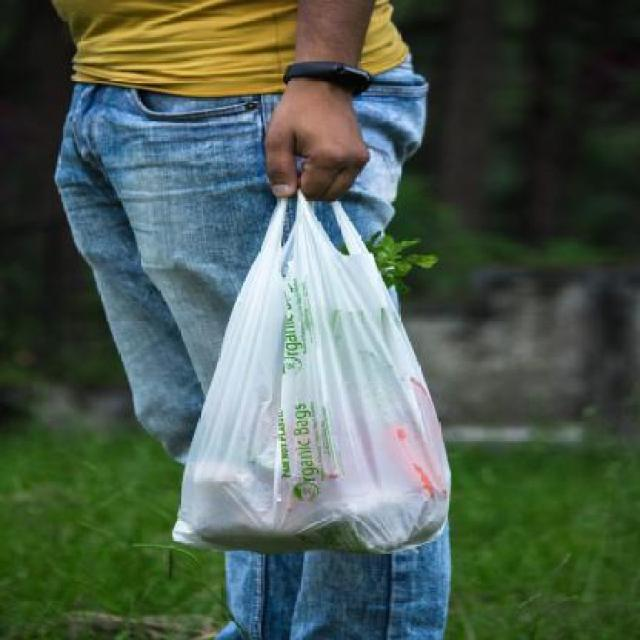plastic bag: (176, 185, 464, 577)
